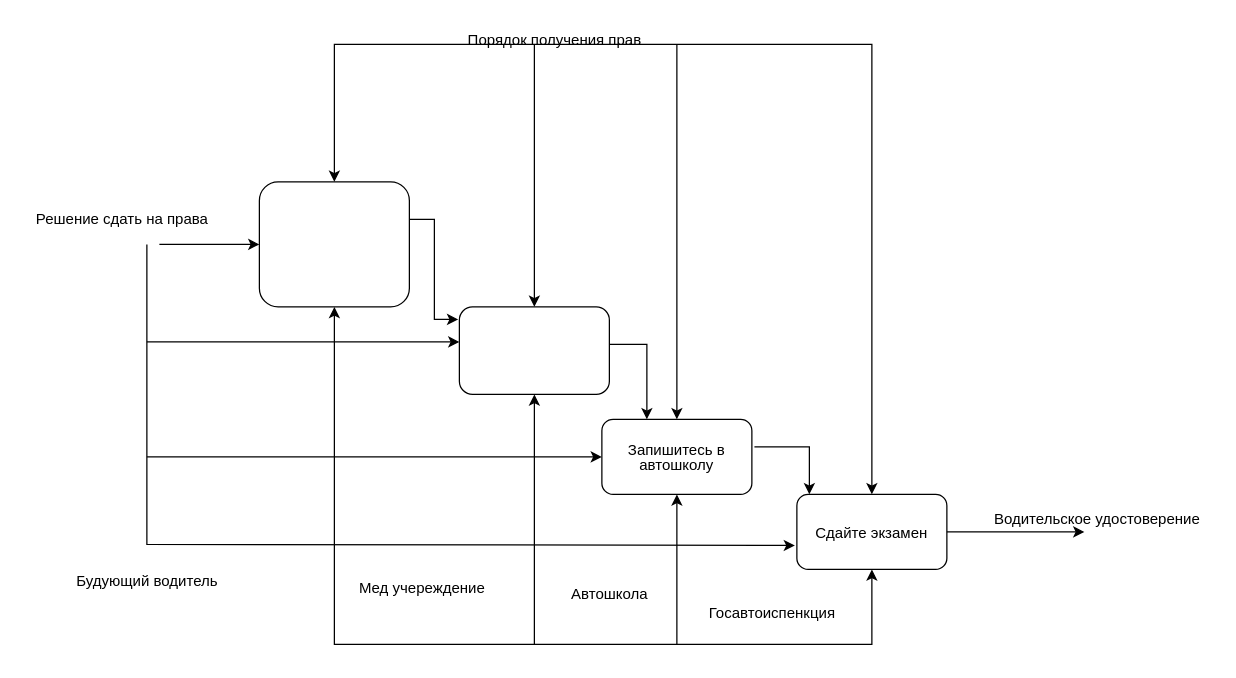
The diagram is 1236 pixels wide and 678 high, and some of its shapes have lost their labels. The shapes that lost their labels are listed below. From the top down, each one's centre as x and y in pixels, then its label:
At point 333,244: "Пройдите медицинский осмотр".
At point 533,350: "Запишитесь на обучение в автошколу".
